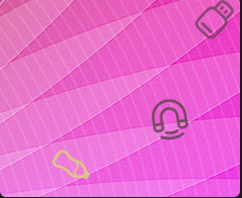cola: (48, 144, 92, 189)
magnet: (148, 97, 193, 143)
usave: (192, 1, 238, 45)
